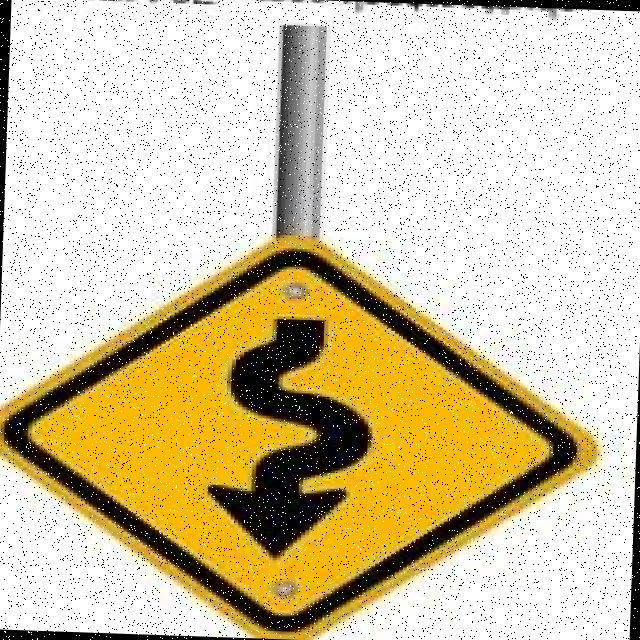left_sharp_curve: (0, 225, 595, 640)
